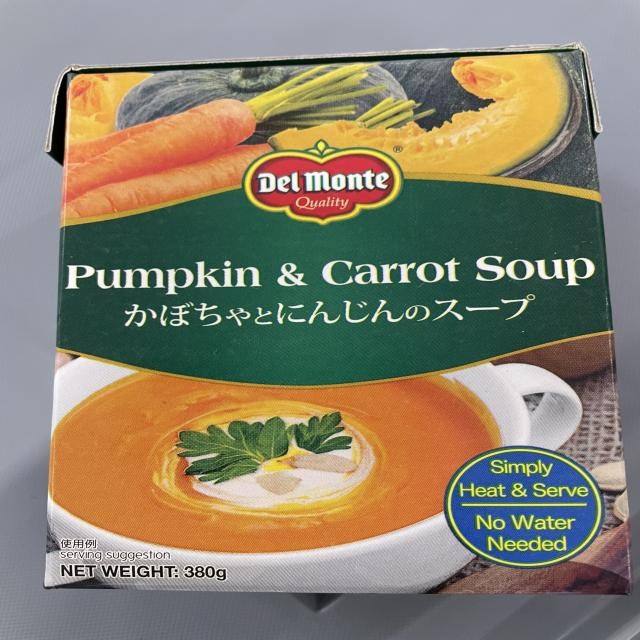object_name: (59, 60, 620, 581)
